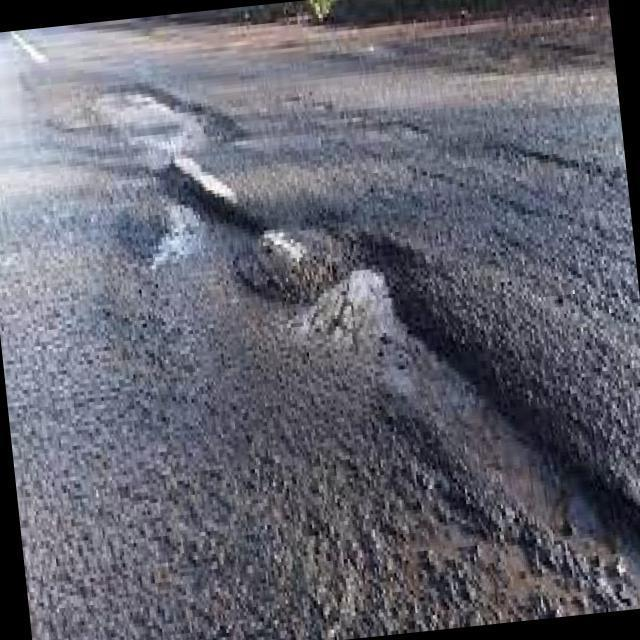Pothole: (93, 89, 640, 640)
